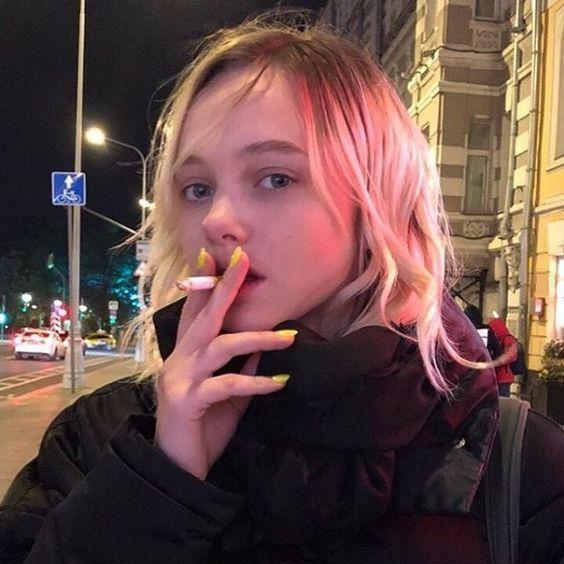cigarette: (176, 276, 221, 290)
